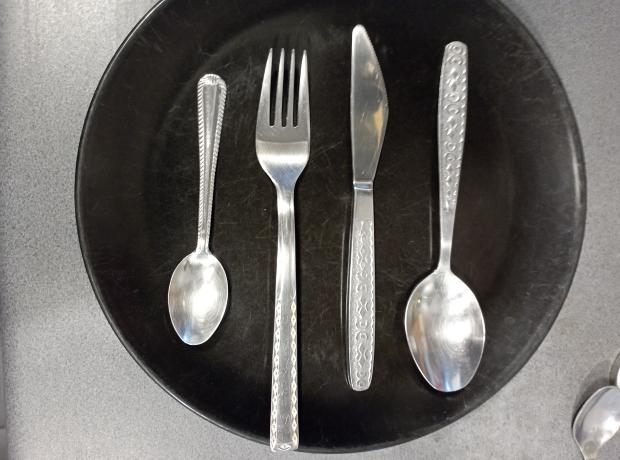metal: (405, 41, 489, 395), (254, 47, 315, 453), (167, 73, 229, 346), (346, 25, 390, 392)
